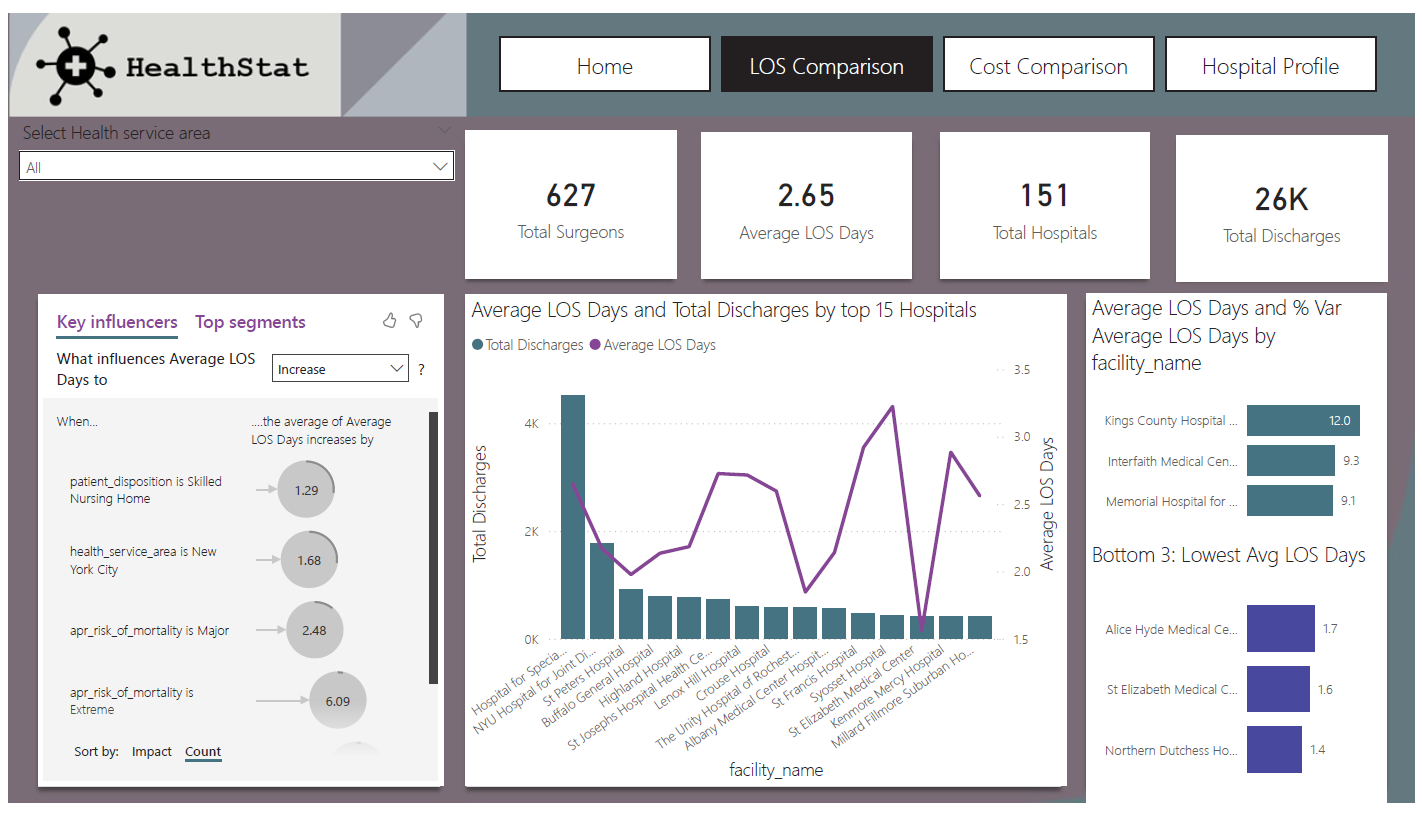

Layout of this report page (visuals, bound fields, positions):
{"tool":"powerbi","page":{"name":"LOS Comparison","canvas":[1280,720],"ordinal":1},"visuals":[{"type":"lineStackedColumnComboChart","title":"Average LOS Days and Total Discharges by top 15 Hospitals","fields":{"Category":["hospital_inpatient_discharges_totalhipreplacement.facility_name"],"Y2":["_Measures.Average LOS Days"],"Y":["_Measures.Total Discharges"]},"box":[416.4,255.7,546.3,447.2],"z":0},{"type":"card","fields":{"Values":["_Measures.Total Surgeons"]},"box":[416.4,107.1,191.5,133.9],"z":1000},{"type":"slicer","fields":{"Values":["hospital_inpatient_discharges_totalhipreplacement.health_service_area"]},"box":[0,92.4,416.4,163.3],"z":2000},{"type":"keyDriversVisual","fields":{"Target":["_Measures.Average LOS Days"],"ExplainBy":["hospital_inpatient_discharges_totalhipreplacement.apr_risk_of_mortality","hospital_inpatient_discharges_totalhipreplacement.apr_severity_of_illness_description","hospital_inpatient_discharges_totalhipreplacement.ccs_diagnosis_description","hospital_inpatient_discharges_totalhipreplacement.patient_disposition","hospital_inpatient_discharges_totalhipreplacement.gender","hospital_inpatient_discharges_totalhipreplacement.Age Bins","surgical_program_volume_summary.Surgical Program Size","hospital_inpatient_discharges_totalhipreplacement.health_service_area"]},"box":[26.8,255.7,369.5,447.2],"z":3000},{"type":"clusteredBarChart","fields":{"Y":["_Measures.Average LOS Days"],"Category":["hospital_inpatient_discharges_totalhipreplacement.facility_name"]},"box":[981.1,255,272.9,224.2],"z":4000},{"type":"clusteredBarChart","title":"Bottom 3: Lowest Avg LOS Days","fields":{"Y":["_Measures.Average LOS Days"],"Category":["hospital_inpatient_discharges_totalhipreplacement.facility_name"]},"box":[981.1,479.2,272.9,240.4],"z":5000},{"type":"card","fields":{"Values":["_Measures.Average LOS Days"]},"box":[630.6,108.5,191.5,133],"z":6000},{"type":"card","fields":{"Values":["_Measures.Total Hospitals"]},"box":[847.5,108.5,191.5,133],"z":7000},{"type":"card","fields":{"Values":["_Measures.Total Discharges"]},"box":[1063.1,111.1,191.5,133],"z":8000},{"type":"pageNavigator","box":[447.2,21.4,799.3,49.5],"z":9000}]}

Visuals, with their boxes in screenshot pixels (x1, y1, x2, y2), scaled from the page's 1280x720 canvas onto the 1422x814 screenshot:
"Average LOS Days and Total Discharges by top 15 Hospitals" lineStackedColumnComboChart: detection(463, 289, 1069, 795)
card - _Measures.Total Surgeons: detection(463, 121, 675, 272)
slicer - hospital_inpatient_discharges_totalhipreplacement.health_service_area: detection(0, 104, 463, 289)
keyDriversVisual - _Measures.Average LOS Days x hospital_inpatient_discharges_totalhipreplacement.apr_risk_of_mortality: detection(30, 289, 440, 795)
clusteredBarChart - _Measures.Average LOS Days x hospital_inpatient_discharges_totalhipreplacement.facility_name: detection(1090, 288, 1393, 542)
"Bottom 3: Lowest Avg LOS Days" clusteredBarChart: detection(1090, 542, 1393, 813)
card - _Measures.Average LOS Days: detection(701, 123, 913, 273)
card - _Measures.Total Hospitals: detection(942, 123, 1154, 273)
card - _Measures.Total Discharges: detection(1181, 126, 1394, 276)
pageNavigator: detection(497, 24, 1385, 80)
